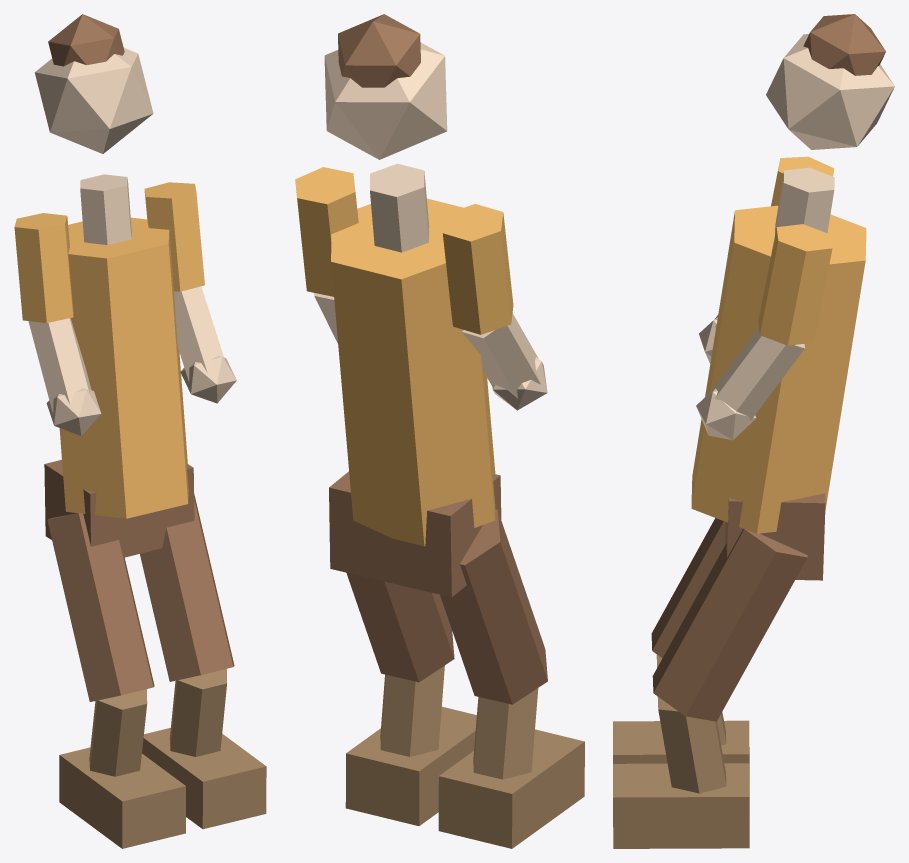
The model's file is pose_hit_light_12.glb.
3 views of the same model, side by side, from view 1: azimuth 30°, elevation 25°; view 2: azimuth 150°, elevation 25°; view 3: azimuth 270°, elevation 25° (orthographic). The views are drawn at different scales.
Visible parts, largest first — view 1: pose; view 2: pose; view 3: pose.
Boxes of the visible parts, x1,y1,x2,y2 form: pose: (14,14,266,848); pose: (295,14,584,848); pose: (613,14,894,848).
Bounding box in the file's own units: 0.3962 × 1.55 × 0.4964.
